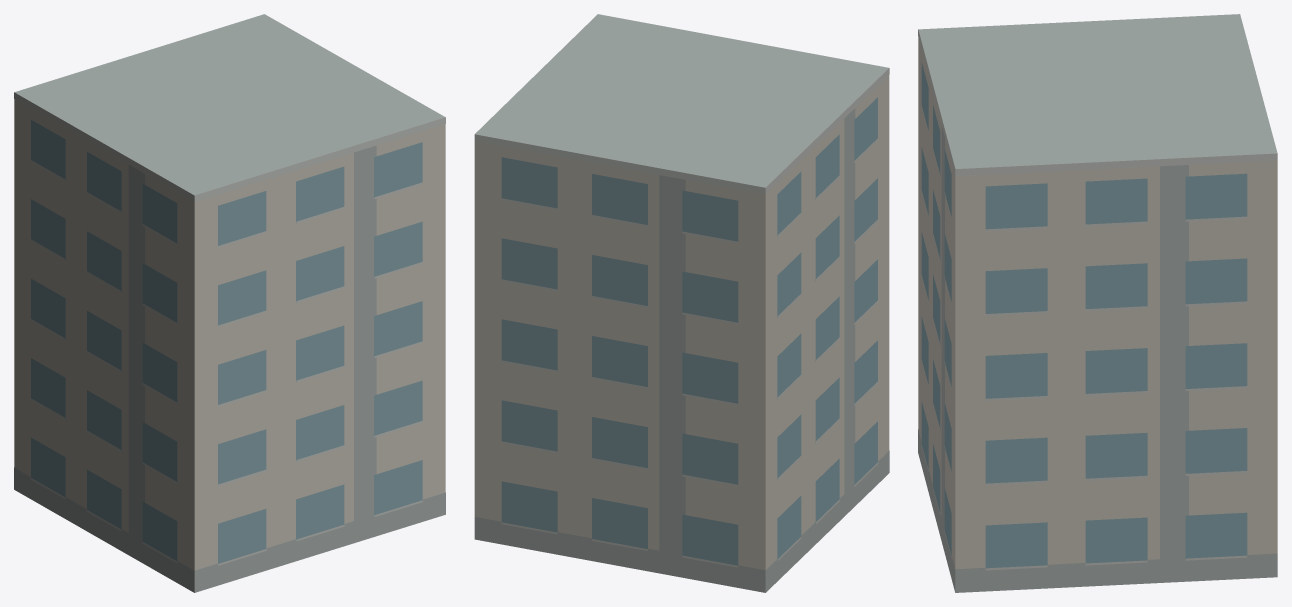
Rendered from survey-upis-32851244.glb.
3 renders of one model, left to right at view 1: azimuth 30°, elevation 25°; view 2: azimuth 150°, elevation 25°; view 3: azimuth 270°, elevation 25°, orthographic. The views are drawn at different scales.
Parts seen in each view (by area): view 1: survey-upis-32851244.tmp; view 2: survey-upis-32851244.tmp; view 3: survey-upis-32851244.tmp.
Part boxes in pixels (<box>): survey-upis-32851244.tmp: <box>14,14,445,592</box>; survey-upis-32851244.tmp: <box>474,14,889,592</box>; survey-upis-32851244.tmp: <box>918,14,1277,592</box>.
Size of the model in its own units: 11.39 by 14.5 by 11.15.
